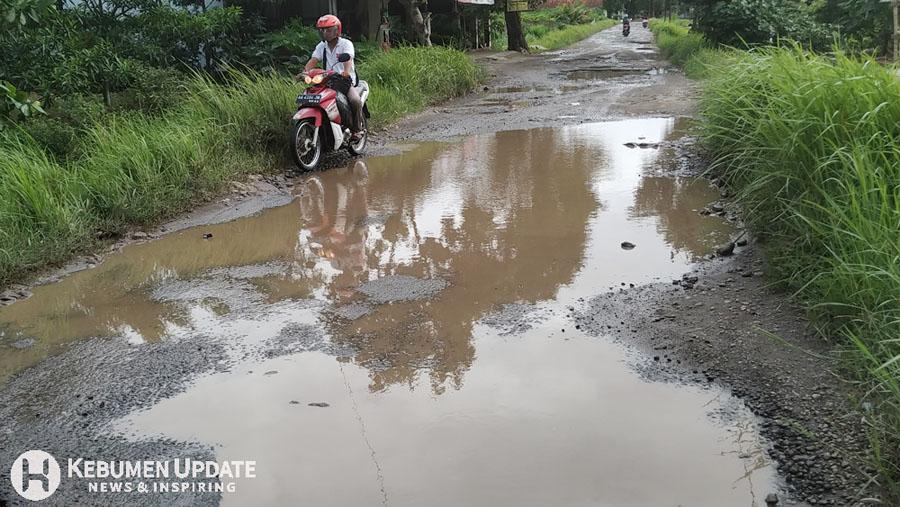Pothole: (29, 126, 900, 507)
